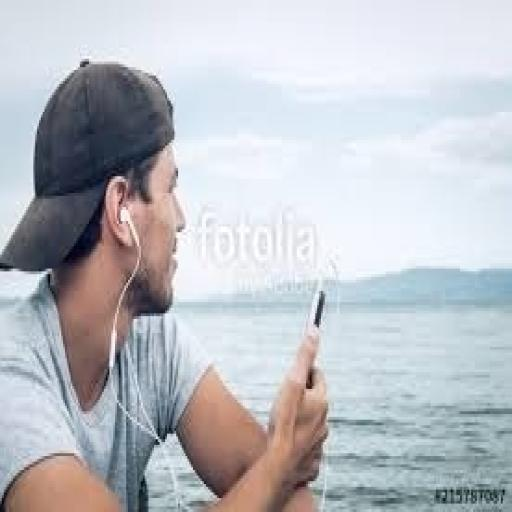listening_to_music: (0, 56, 330, 509)
